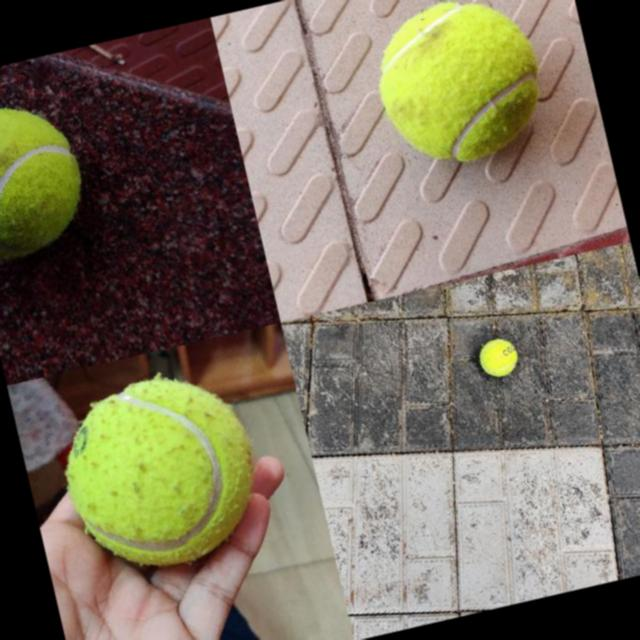tennis-ball: (48, 359, 274, 583), (362, 0, 554, 177), (0, 92, 95, 265), (475, 334, 522, 380)
